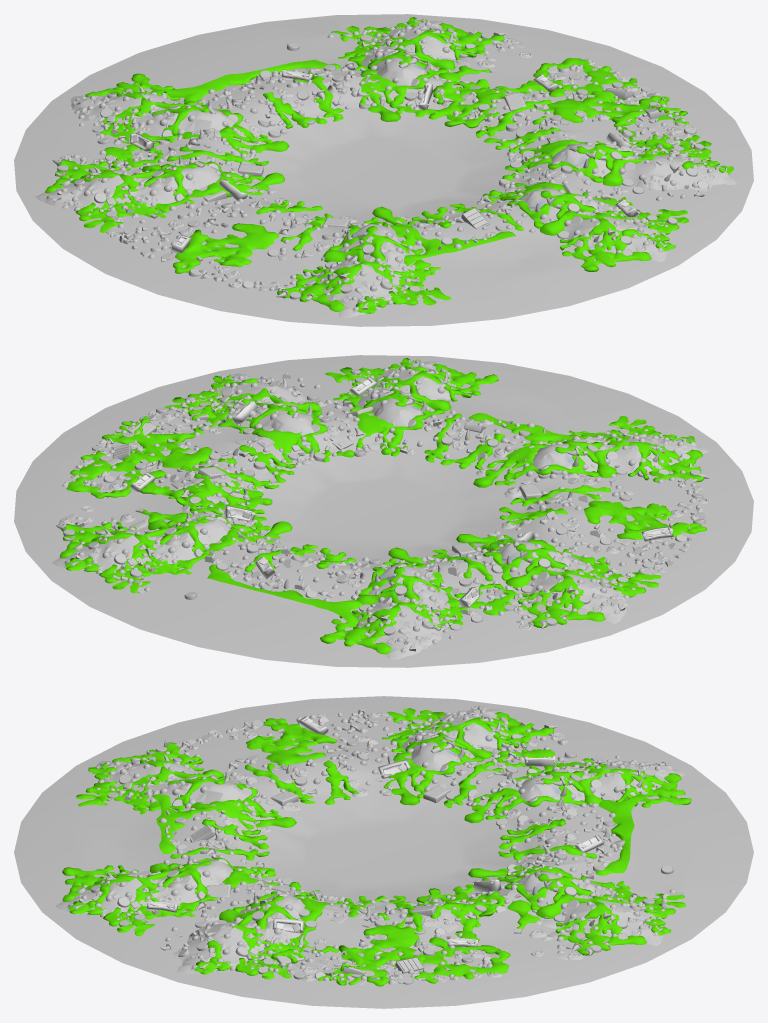
Rendered from env_garbage_garbagecrater.fbx.
The picture shows the model from 3 angles, top to bottom: view 1: azimuth 30°, elevation 25°; view 2: azimuth 150°, elevation 25°; view 3: azimuth 270°, elevation 25°; orthographic projection.
Parts seen in each view (by area): view 1: CRATER.002, goo..002, obj_decor_bed.003, wheels_8k.001, oranges_6.8k.001, tomatos_7.5k.001, cones_8.2k.001, broccoli_12.5k.001, sofa.001, beds.001, cans_4.4k.001, cables_black_7.6k.001 (+4 smaller); view 2: CRATER.002, goo..002, obj_decor_bed.003, wheels_8k.001, oranges_6.8k.001, tomatos_7.5k.001, cones_8.2k.001, broccoli_12.5k.001, sofa.001, cables_black_7.6k.001, cans_4.4k.001, beds.001 (+4 smaller); view 3: CRATER.002, goo..002, obj_decor_bed.003, wheels_8k.001, oranges_6.8k.001, tomatos_7.5k.001, cones_8.2k.001, broccoli_12.5k.001, sofa.001, cables_black_7.6k.001, beds.001, cans_4.4k.001 (+4 smaller).
Part boxes in pixels (box(x1,y1,x2,y2)): CRATER.002: box(14, 14, 753, 326); goo..002: box(45, 17, 733, 313); obj_decor_bed.003: box(35, 19, 736, 317); wheels_8k.001: box(57, 27, 708, 301); oranges_6.8k.001: box(61, 21, 712, 300); tomatos_7.5k.001: box(72, 25, 709, 304); cones_8.2k.001: box(50, 19, 727, 309); broccoli_12.5k.001: box(71, 25, 699, 292); sofa.001: box(129, 69, 638, 253); beds.001: box(203, 87, 676, 229); cans_4.4k.001: box(80, 30, 693, 290); cables_black_7.6k.001: box(168, 38, 697, 270); CRATER.002: box(14, 355, 753, 667); goo..002: box(59, 358, 706, 654); obj_decor_bed.003: box(52, 359, 709, 659); wheels_8k.001: box(63, 368, 705, 635); oranges_6.8k.001: box(75, 362, 698, 641); tomatos_7.5k.001: box(79, 366, 701, 644); cones_8.2k.001: box(56, 359, 709, 651); broccoli_12.5k.001: box(75, 370, 703, 633); sofa.001: box(129, 377, 673, 607); cables_black_7.6k.001: box(58, 373, 683, 577); cans_4.4k.001: box(83, 380, 696, 636); beds.001: box(112, 406, 556, 556); CRATER.002: box(14, 696, 753, 1008); goo..002: box(62, 708, 691, 986); obj_decor_bed.003: box(55, 706, 686, 973); wheels_8k.001: box(75, 714, 673, 984); oranges_6.8k.001: box(81, 709, 667, 980); tomatos_7.5k.001: box(95, 711, 676, 981); cones_8.2k.001: box(73, 705, 666, 980); broccoli_12.5k.001: box(96, 713, 646, 984); sofa.001: box(146, 716, 604, 947); cables_black_7.6k.001: box(120, 732, 612, 982); beds.001: box(189, 755, 450, 974); cans_4.4k.001: box(166, 713, 665, 980).
Size of the model in its own units: 315 by 13.94 by 315.
